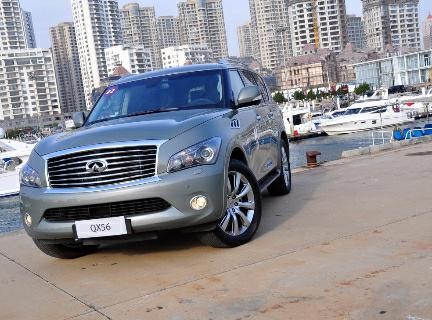英菲尼迪-QX: (12, 60, 304, 269)
